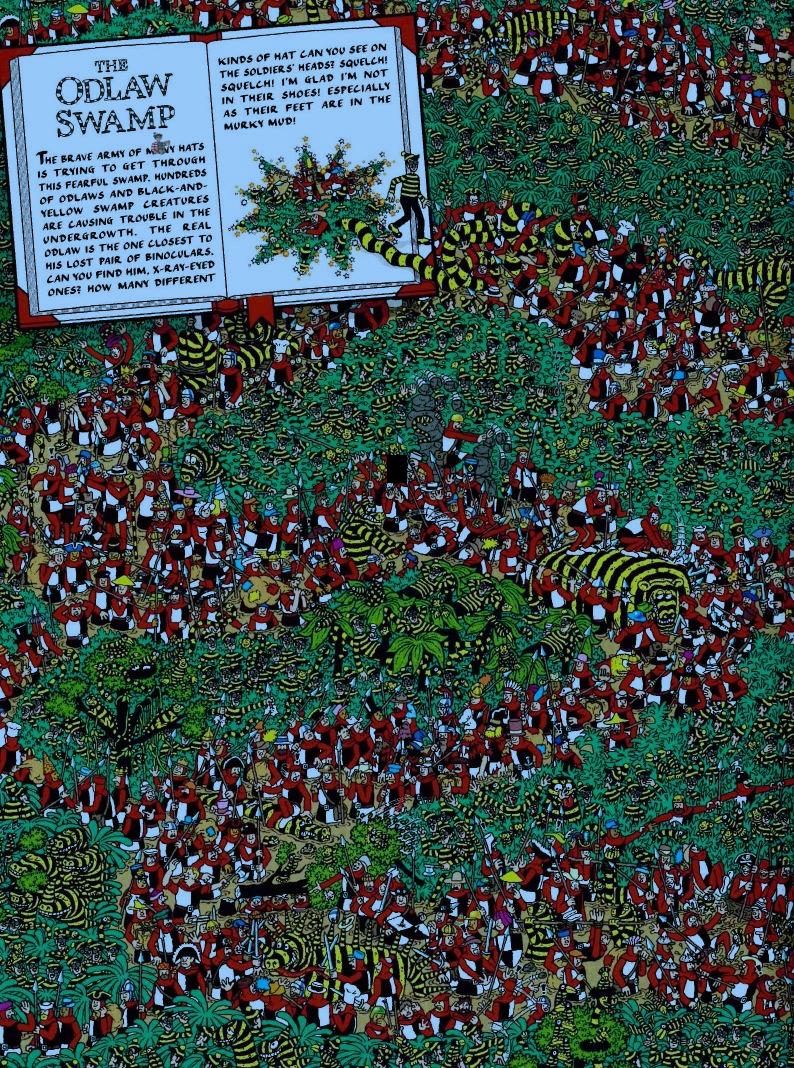waldos: (151, 131, 171, 159)
